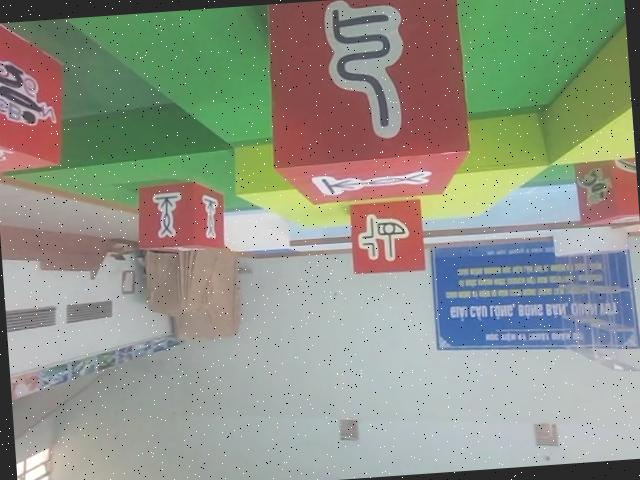R1: (0, 17, 67, 175), (567, 154, 640, 233)
R2 Fake: (258, 0, 474, 209)
R2 Real: (128, 179, 227, 256), (348, 197, 425, 274)
